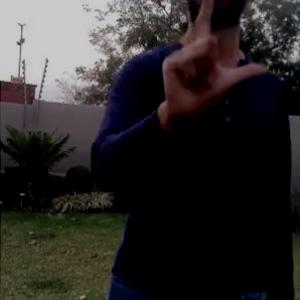land_hand: (156, 0, 270, 121)
